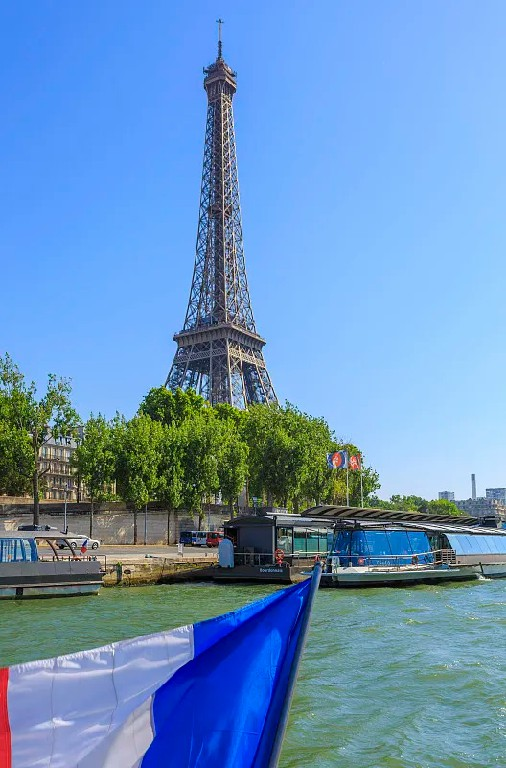Eiffel: (164, 21, 283, 412)
